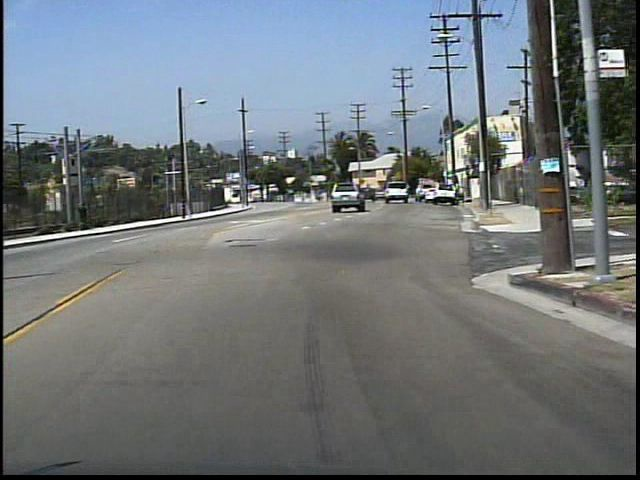person: (80, 198, 95, 232)
